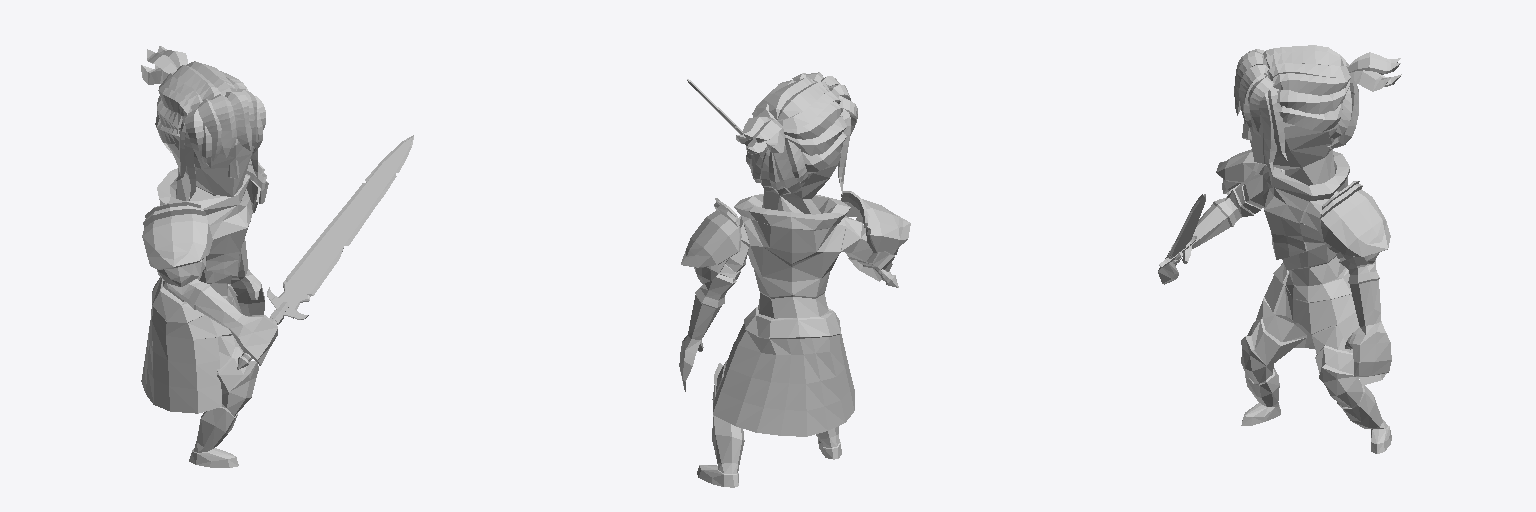
3 views of the same model, side by side, from view 1: azimuth 30°, elevation 25°; view 2: azimuth 150°, elevation 25°; view 3: azimuth 270°, elevation 25° (orthographic).
Parts seen in each view (by area): view 1: Warrior.002__ncl1_29.005, Face__ncl1_29.002, Warrior_Sword_Cylinder.001, Shoulder.R__ncl1_29.001, Shoulder.L__ncl1_29.000; view 2: Warrior.002__ncl1_29.005, Face__ncl1_29.002, Shoulder.L__ncl1_29.000, Shoulder.R__ncl1_29.001; view 3: Warrior.002__ncl1_29.005, Face__ncl1_29.002, Shoulder.L__ncl1_29.000, Shoulder.R__ncl1_29.001, Warrior_Sword_Cylinder.001.
Part boxes in pixels (x1,y1,x2,y2): Warrior.002__ncl1_29.005: (141,116,277,467); Face__ncl1_29.002: (141,46,265,200); Warrior_Sword_Cylinder.001: (237,135,413,369); Shoulder.R__ncl1_29.001: (142,201,212,286); Shoulder.L__ncl1_29.000: (246,159,268,213); Warrior.002__ncl1_29.005: (679,150,894,487); Face__ncl1_29.002: (736,72,857,194); Shoulder.L__ncl1_29.000: (681,198,741,283); Shoulder.R__ncl1_29.001: (841,191,910,254); Warrior.002__ncl1_29.005: (1158,108,1391,453); Face__ncl1_29.002: (1234,45,1401,175); Shoulder.L__ncl1_29.000: (1320,181,1390,265); Shoulder.R__ncl1_29.001: (1216,149,1264,194); Warrior_Sword_Cylinder.001: (1159,194,1205,267).
Bounding box in the file's own units: 1.87 × 2.79 × 1.65.